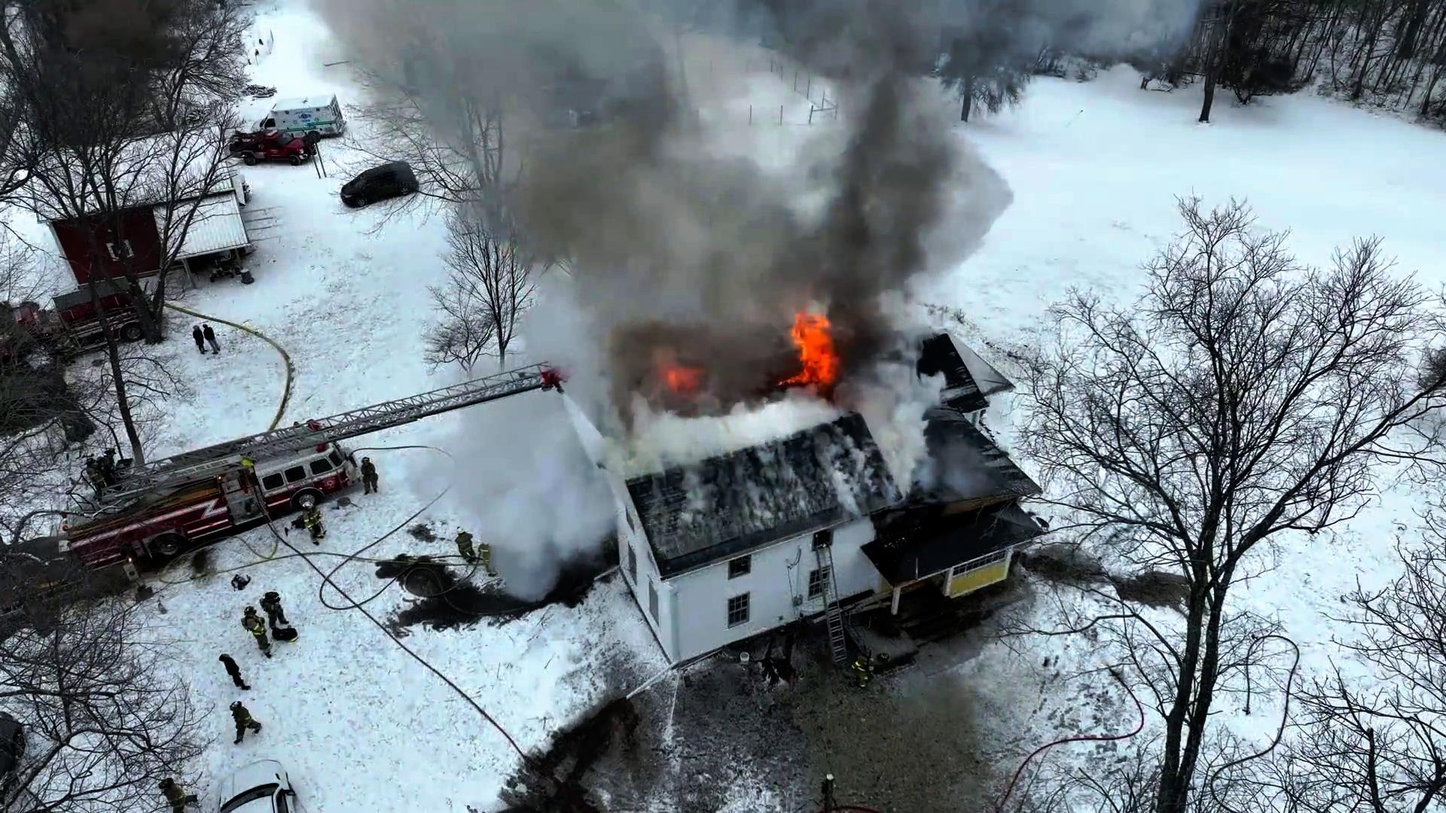fire: (776, 303, 834, 402)
smoke: (833, 121, 998, 296)
